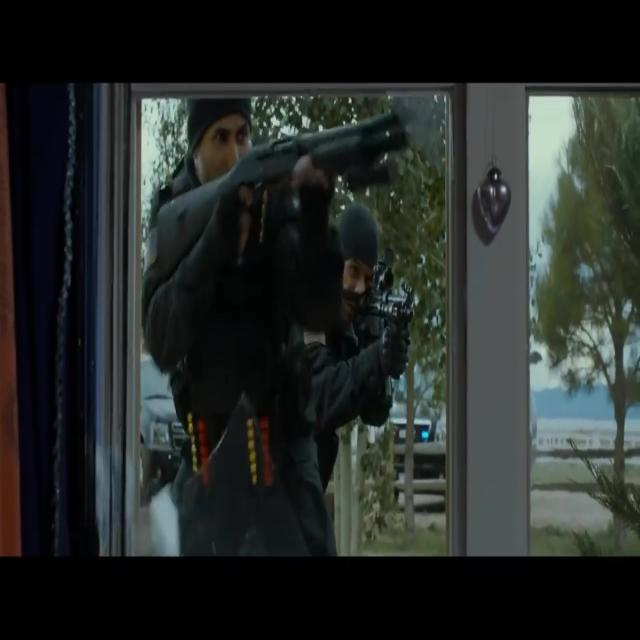Weapon: (136, 88, 420, 258), (164, 382, 317, 555), (350, 275, 449, 381)
